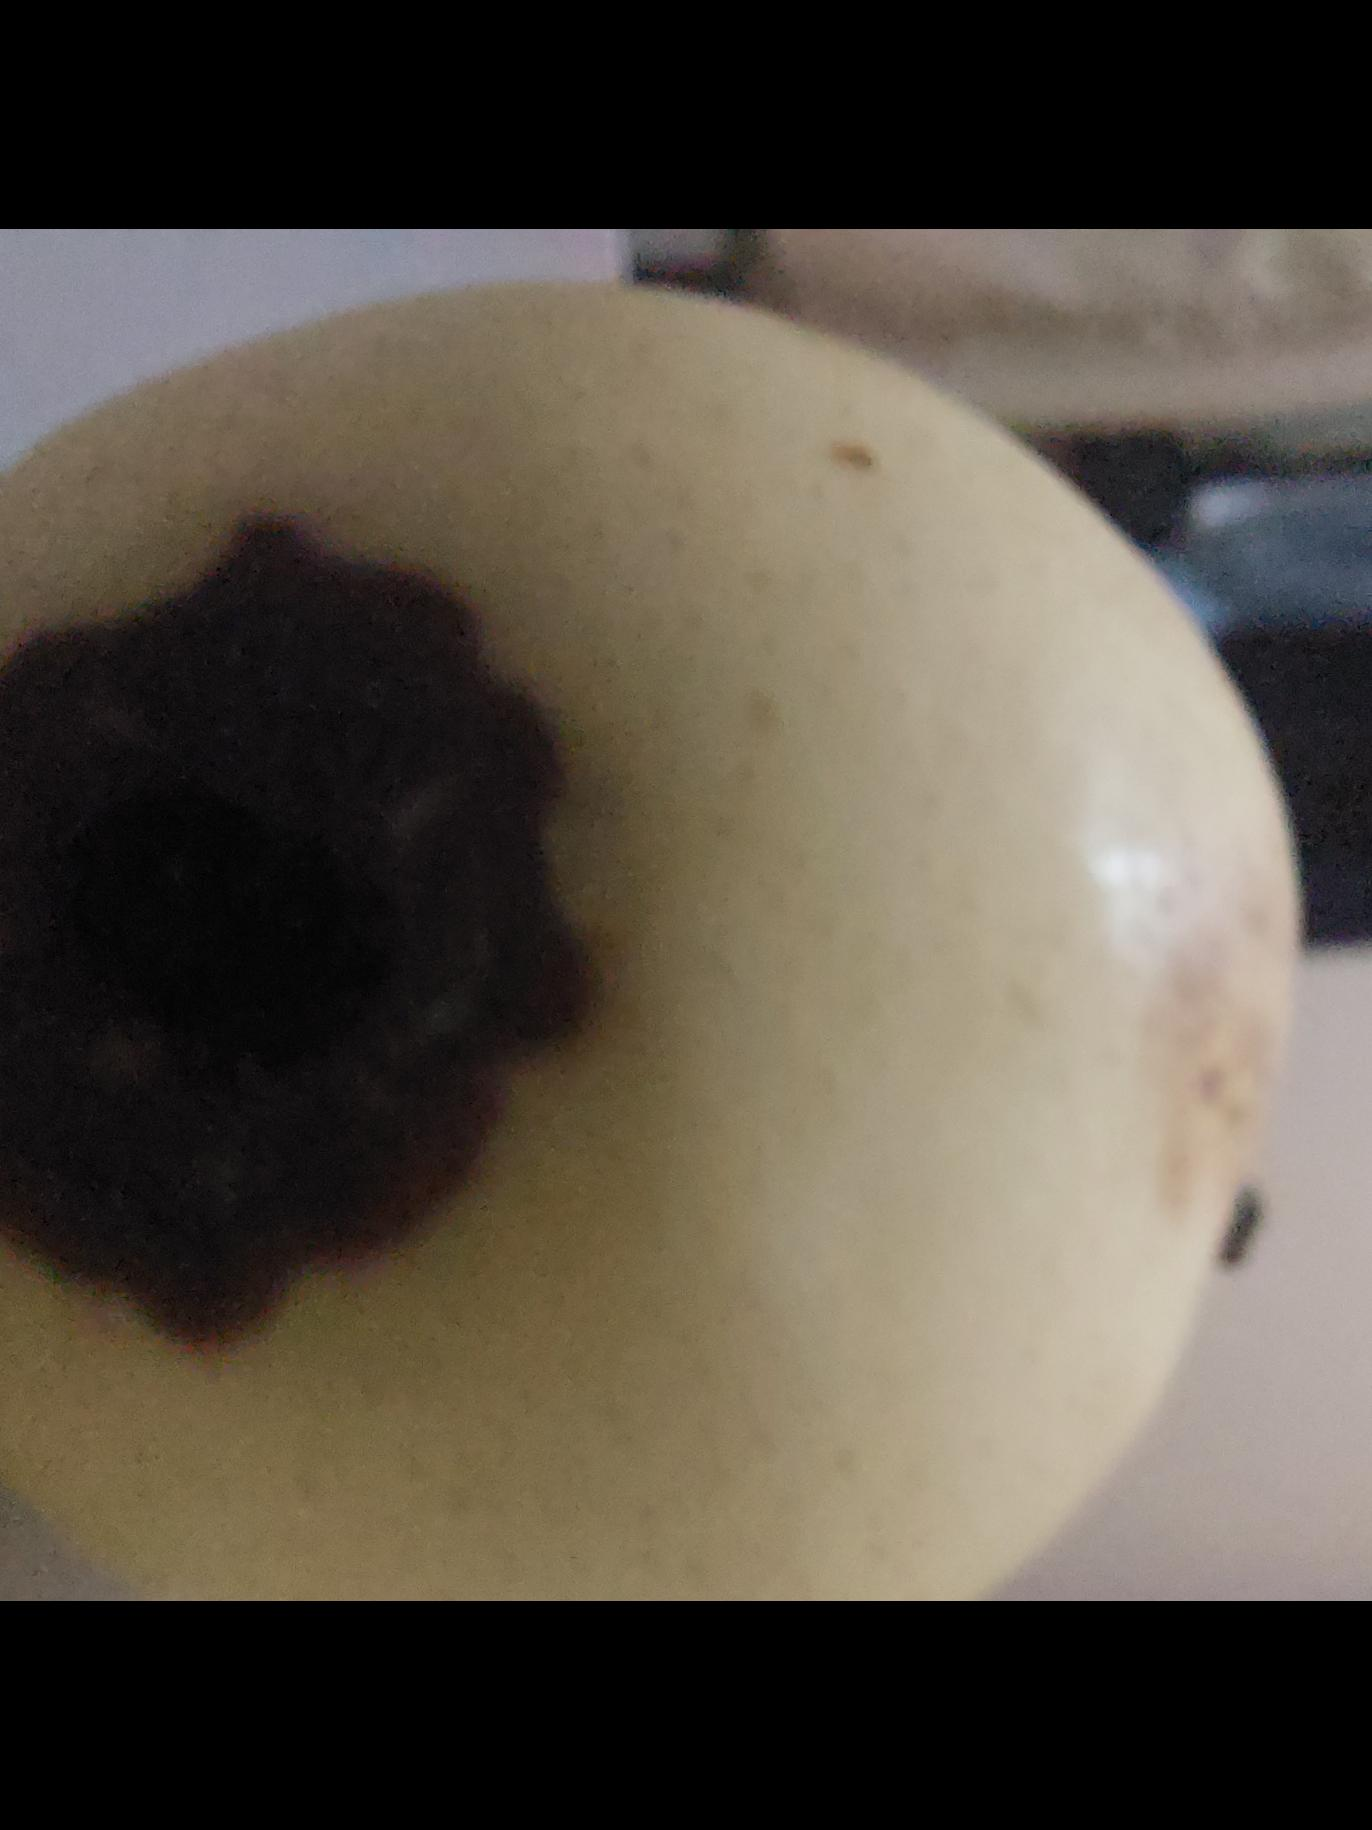Bad Pear: (0, 246, 1310, 1601)
